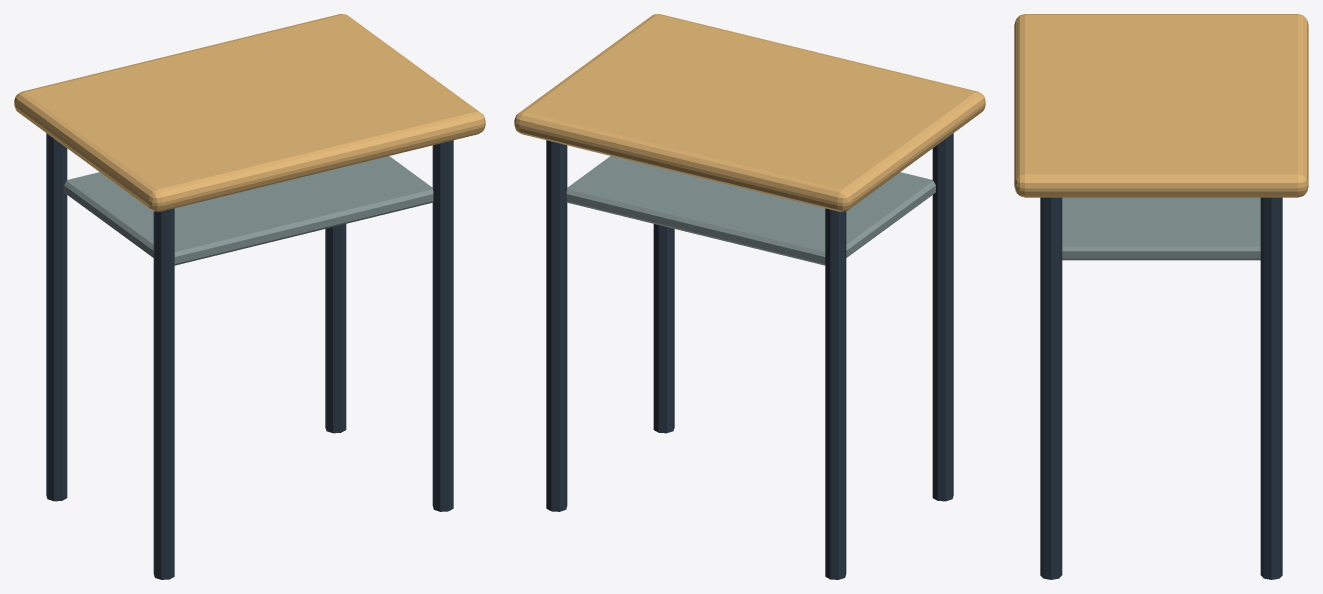
File: desk_classroom.glb
The picture shows the model from 3 angles, left to right: view 1: azimuth 30°, elevation 25°; view 2: azimuth 150°, elevation 25°; view 3: azimuth 270°, elevation 25°; orthographic projection. The views are drawn at different scales.
Parts seen in each view (by area): view 1: desk_classroom__oak_light, desk_classroom__metal, desk_classroom__metal_light; view 2: desk_classroom__oak_light, desk_classroom__metal, desk_classroom__metal_light; view 3: desk_classroom__oak_light, desk_classroom__metal, desk_classroom__metal_light.
Boxes of the visible parts, x1,y1,x2,y2 form: desk_classroom__oak_light: (14,14,485,211); desk_classroom__metal: (46,133,453,579); desk_classroom__metal_light: (64,156,433,265); desk_classroom__oak_light: (514,14,985,211); desk_classroom__metal: (546,133,953,579); desk_classroom__metal_light: (566,156,935,265); desk_classroom__oak_light: (1014,14,1308,197); desk_classroom__metal: (1040,197,1282,579); desk_classroom__metal_light: (1062,197,1260,260).
Bounding box in the file's own units: 0.65 × 0.74 × 0.48.
